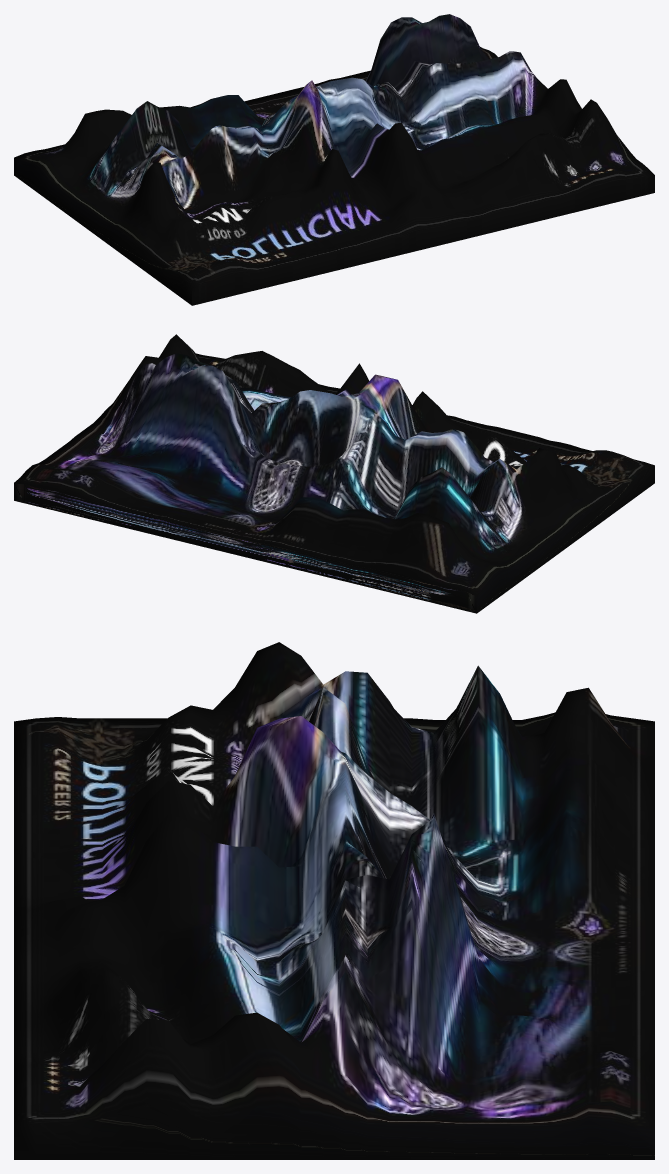
The model's file is CAREER_12_Tool_07_Limo.glb.
3 views of the same model, one above another, from view 1: azimuth 30°, elevation 25°; view 2: azimuth 150°, elevation 25°; view 3: azimuth 270°, elevation 25° (orthographic). The views are drawn at different scales.
Visible parts, largest first — view 1: CAREER_12_Tool_07_Limo; view 2: CAREER_12_Tool_07_Limo; view 3: CAREER_12_Tool_07_Limo.
Boxes of the visible parts, bbox=[...] form: CAREER_12_Tool_07_Limo: bbox=[14, 14, 654, 305]; CAREER_12_Tool_07_Limo: bbox=[14, 334, 654, 613]; CAREER_12_Tool_07_Limo: bbox=[14, 642, 654, 1159].
Size of the model in its own units: 2 by 0.51 by 1.33.
1 material, 1 textured.
